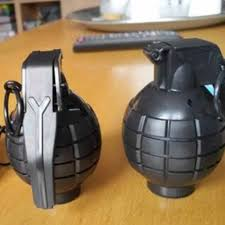e1: (121, 39, 225, 198), (2, 48, 102, 209)
